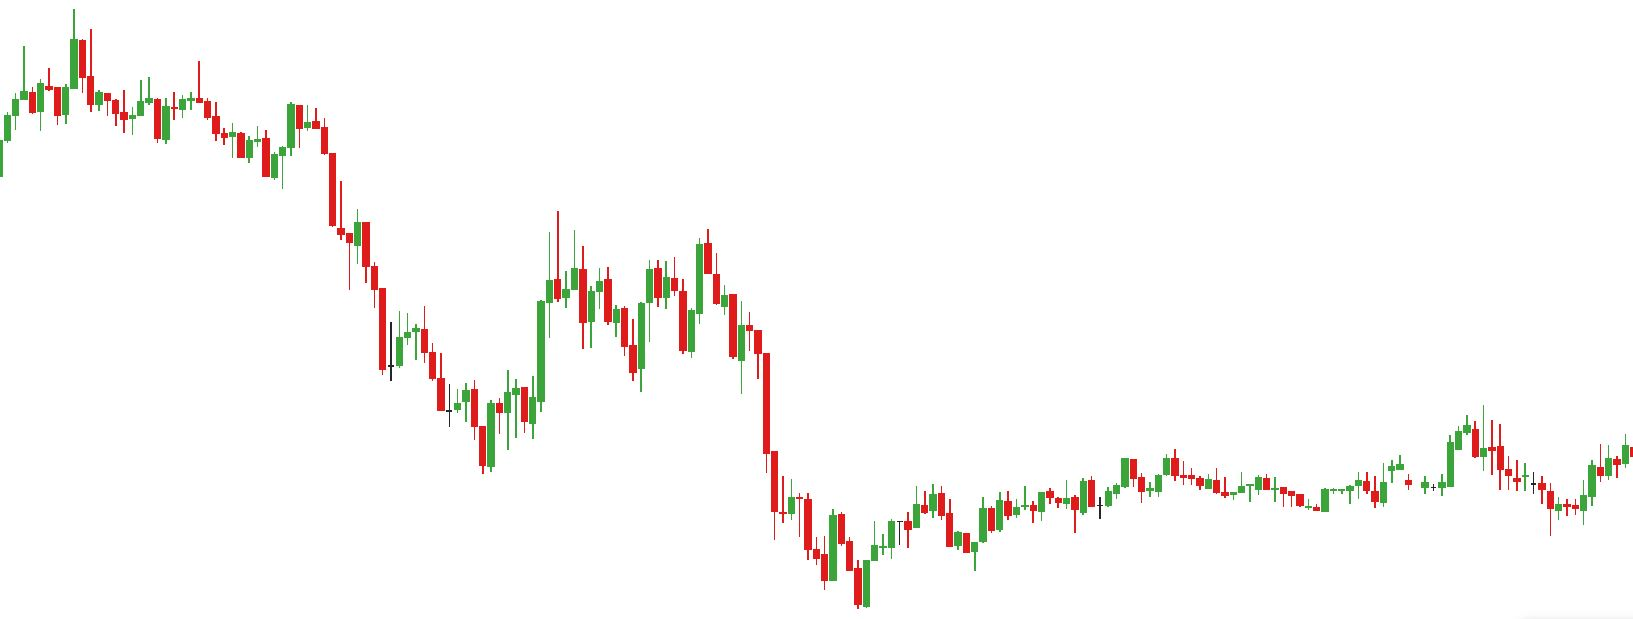sell: (645, 222, 715, 319), (19, 8, 85, 109), (136, 52, 205, 125)
